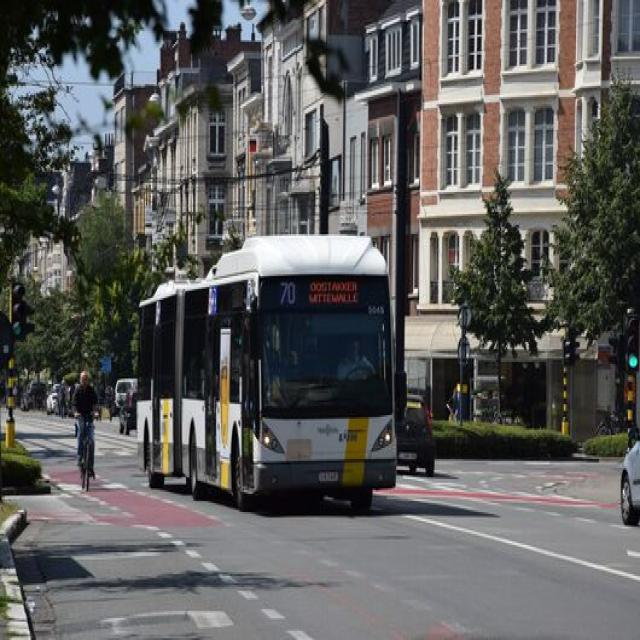bus-number: (280, 279, 296, 307)
